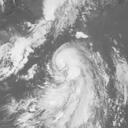cyclone: (51, 43, 94, 84)
